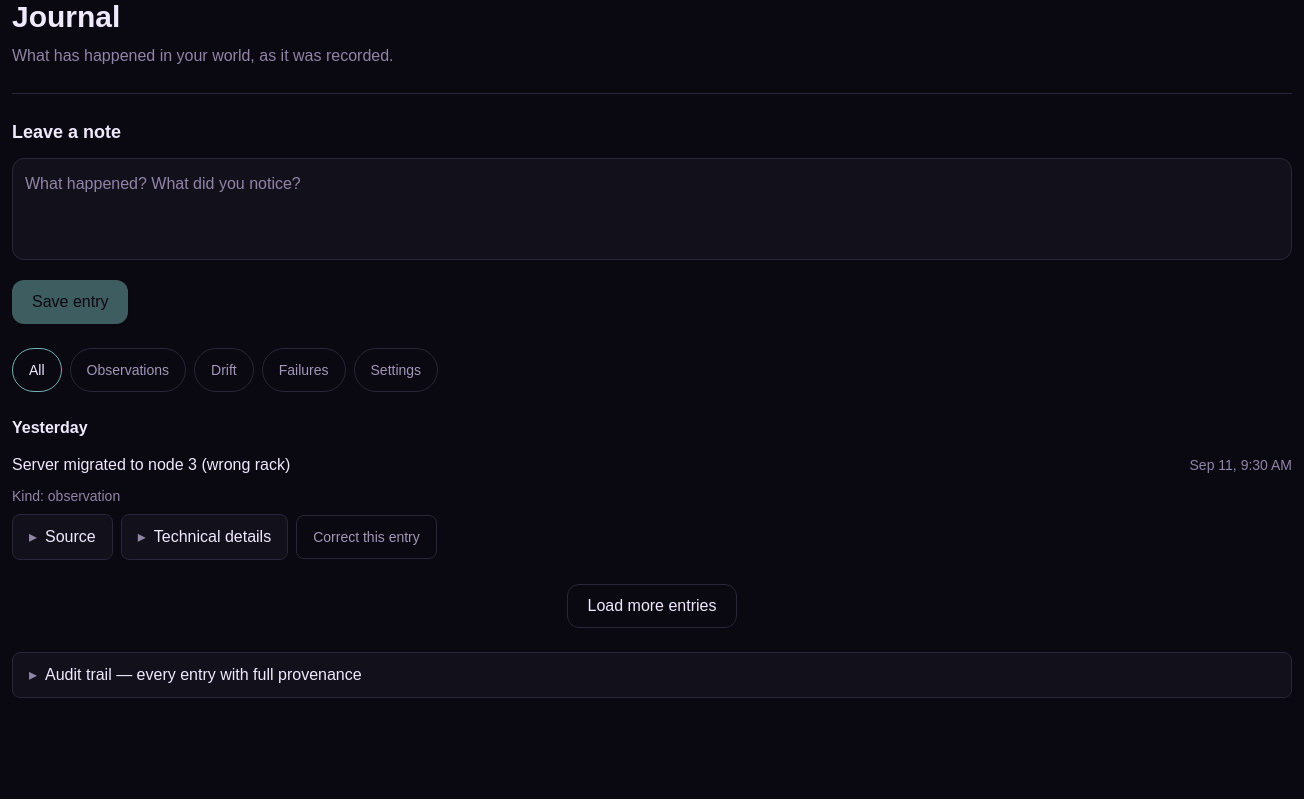
Test case: Journal correction workflow (propose → approve → act; original preserved) › proposal shows original vs proposed, effect/risk/recovery, and changes nothing before approval
Click the button "Correct this entry": coordinates (366, 537) [296, 515, 437, 559]
(page scrolled)
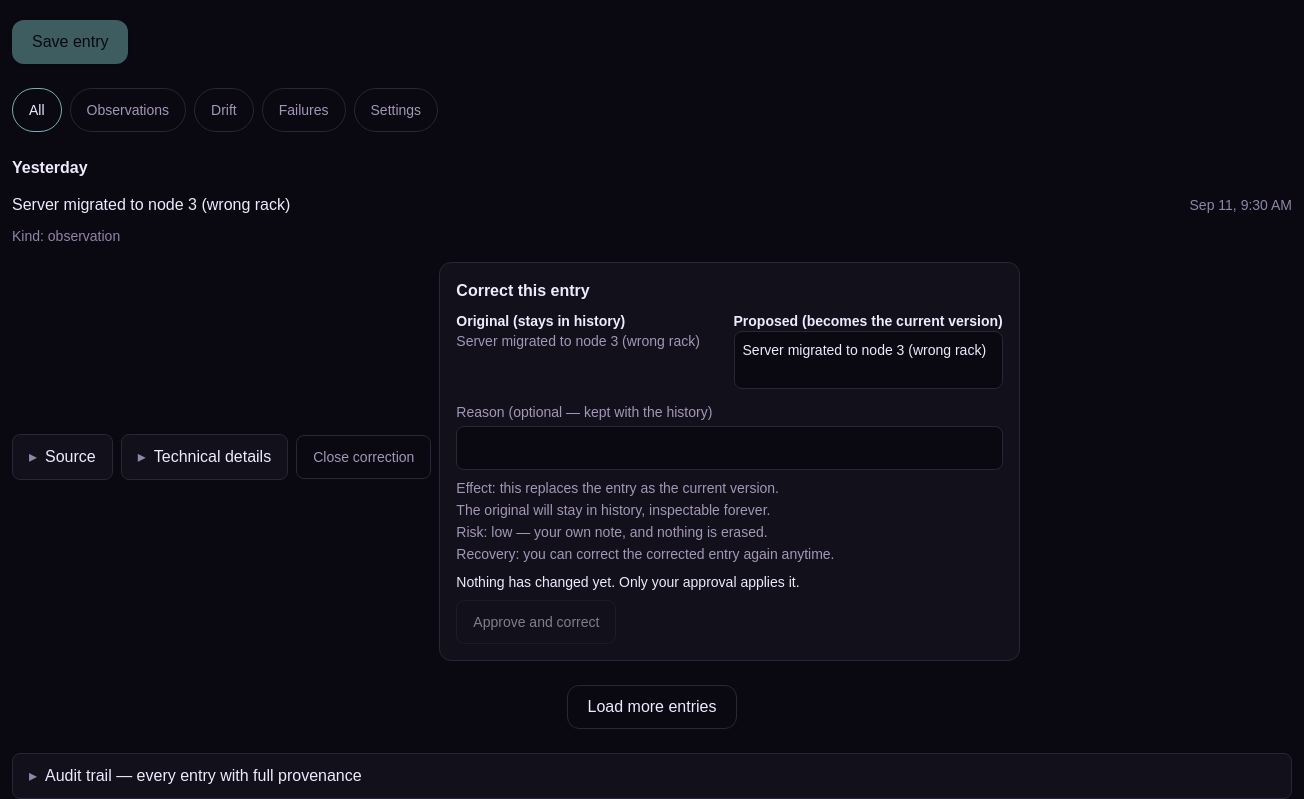
Now the text "Server migrated to node 3 (wrong rack)" below "Original (stays in history)" is shown, box [456, 333, 700, 349]
Now the text "Original (stays in history)" is shown, box [456, 313, 625, 329]
Now the text "Proposed (becomes the current version)" is shown, box [734, 311, 1003, 331]
